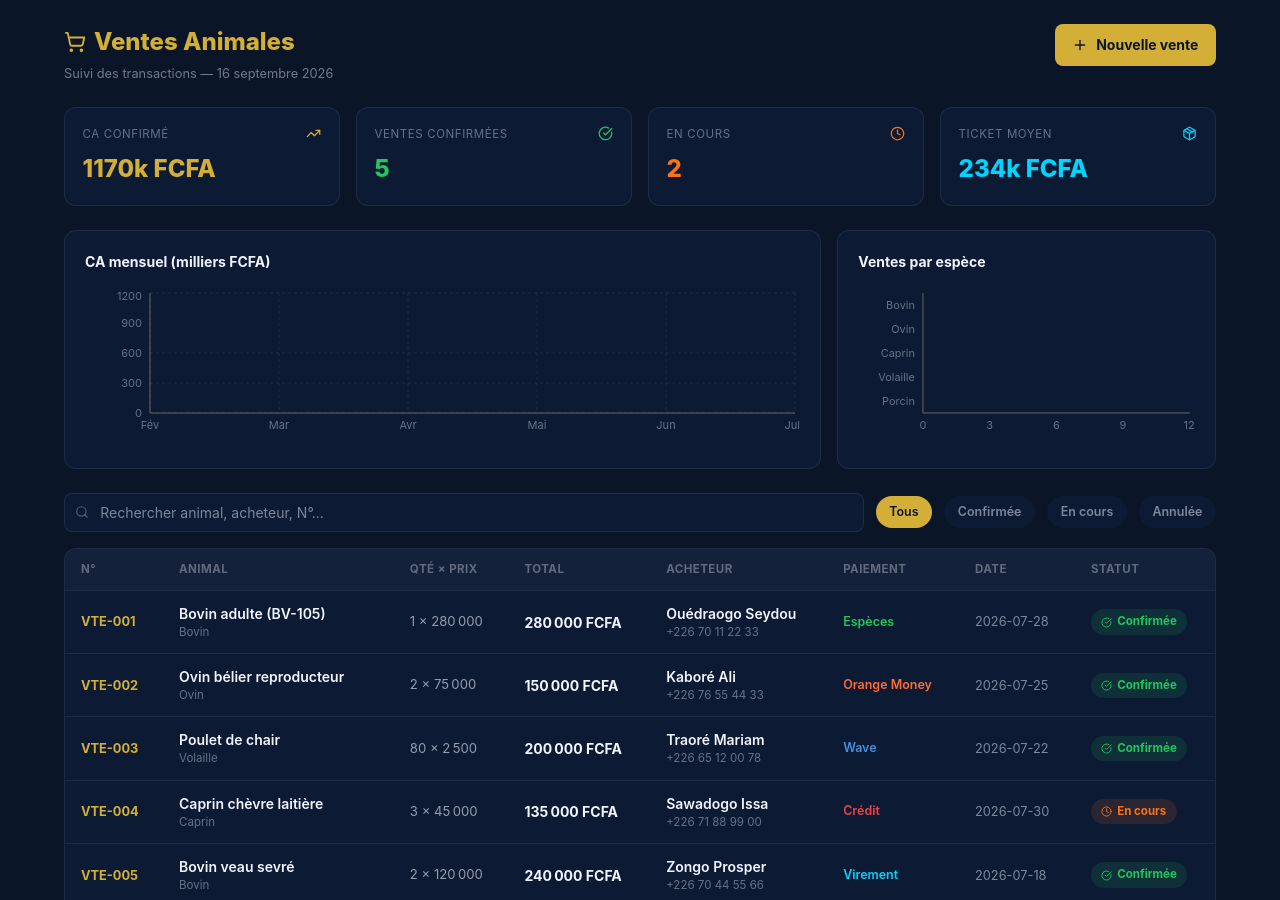
Test: VentesPage › le filtre Confirmée n'affiche que les ventes confirmées
Step 1. Click the button "Confirmée" → {"x": 990, "y": 512}, box x1=944 y1=496 x2=1035 y2=528
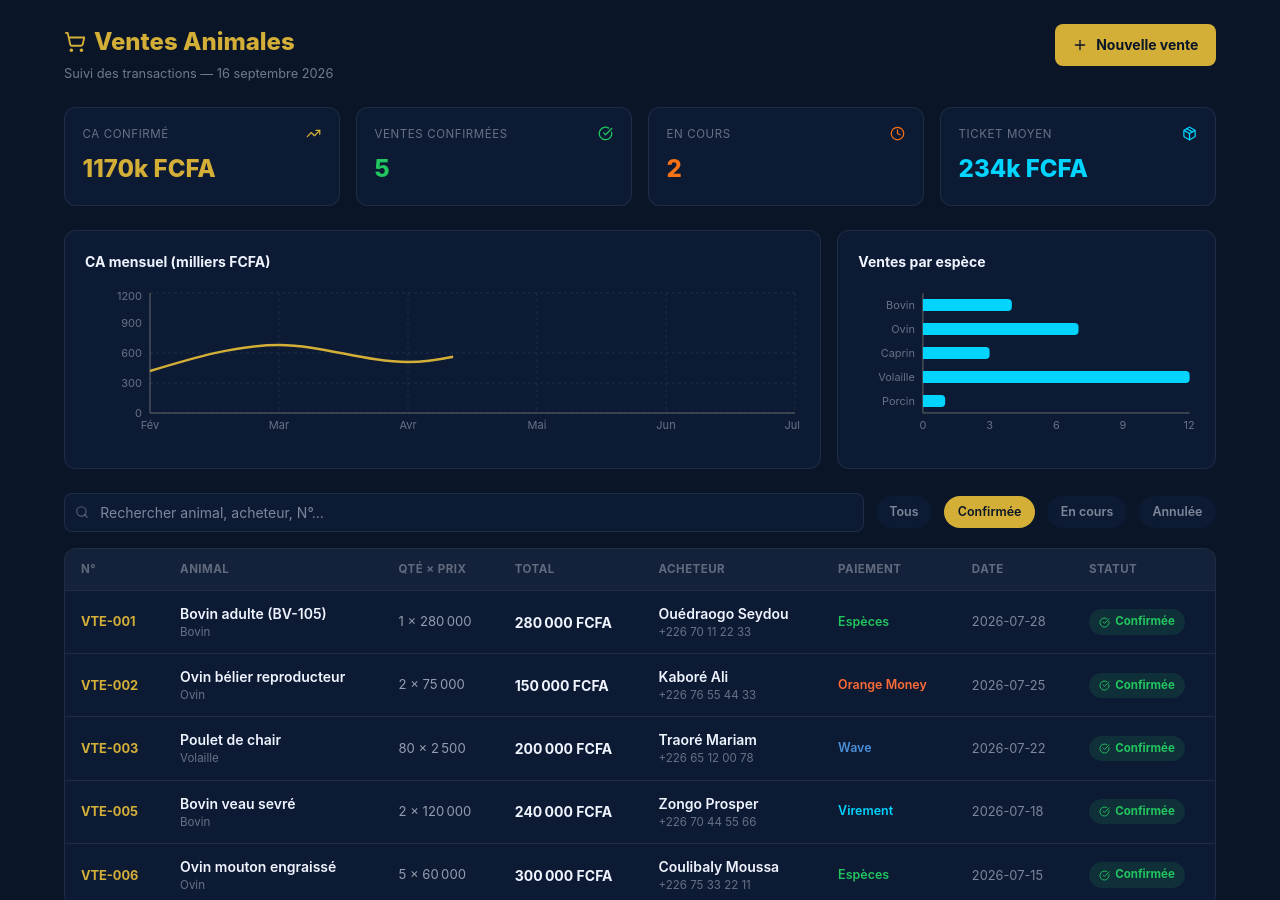
Expected: the text "VTE-001" is shown, x1=65 y1=590 x2=164 y2=654
Now the text "VTE-004" is gone
